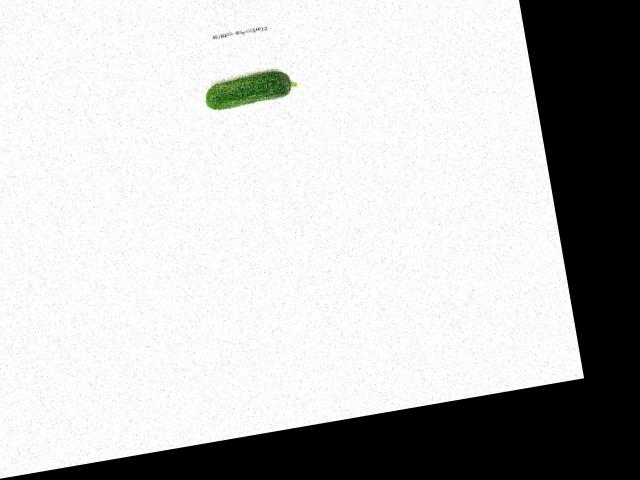cucumber: (201, 67, 299, 111)
